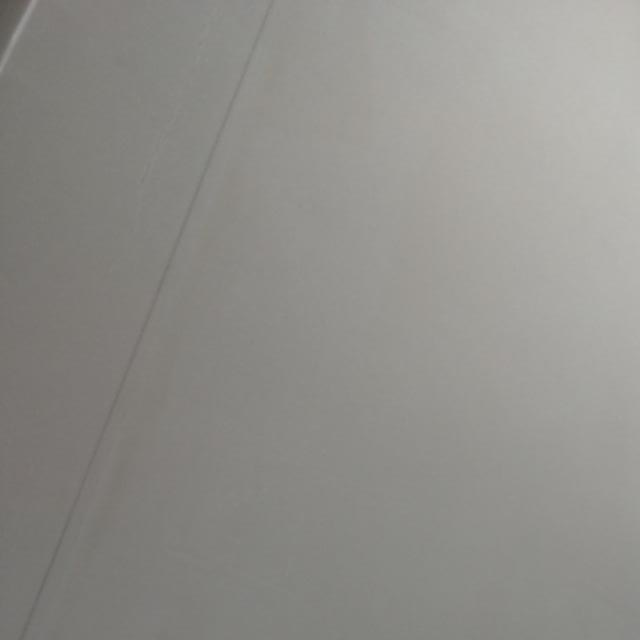fluorescent tube: (576, 240, 639, 640)
